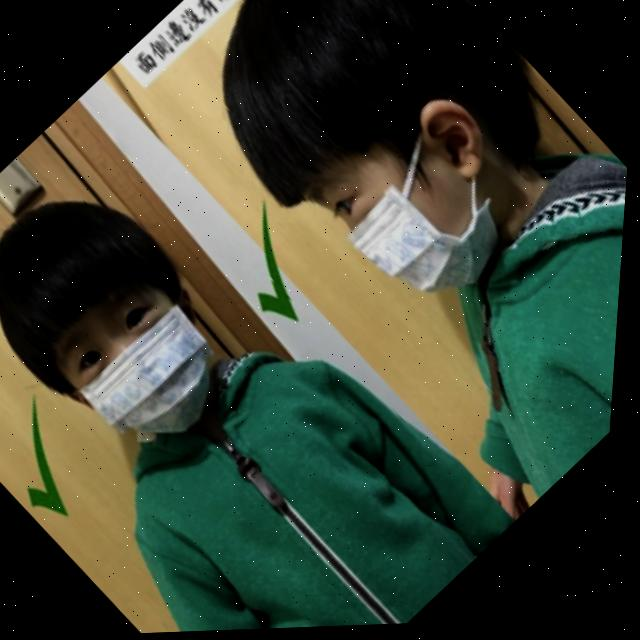Mask: (314, 80, 572, 333), (61, 274, 266, 474)
